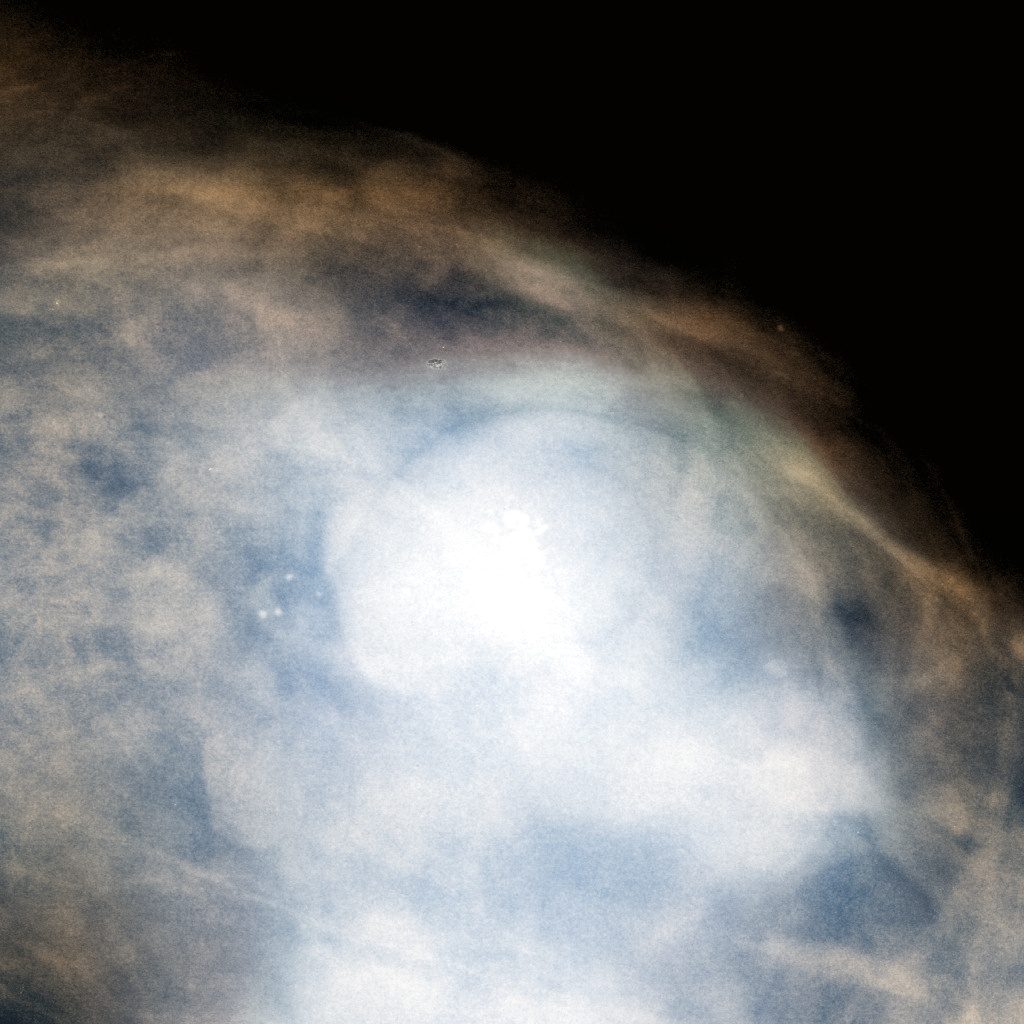tumor: (325, 326, 699, 698)
